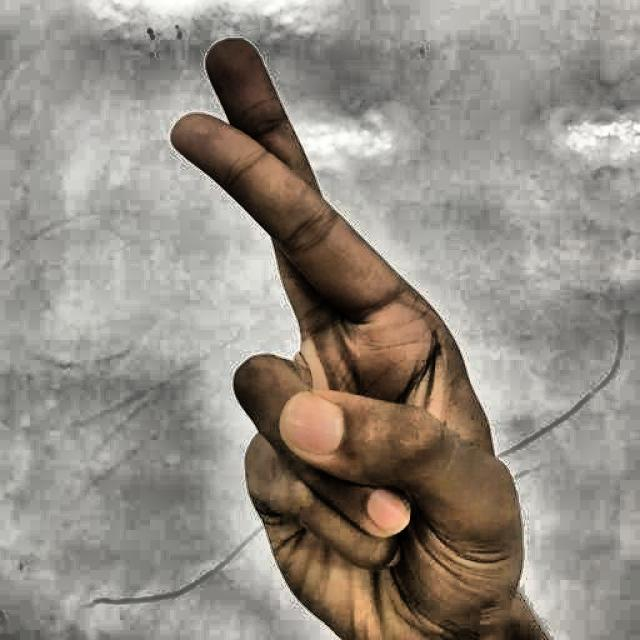Ra: (123, 18, 552, 640)
